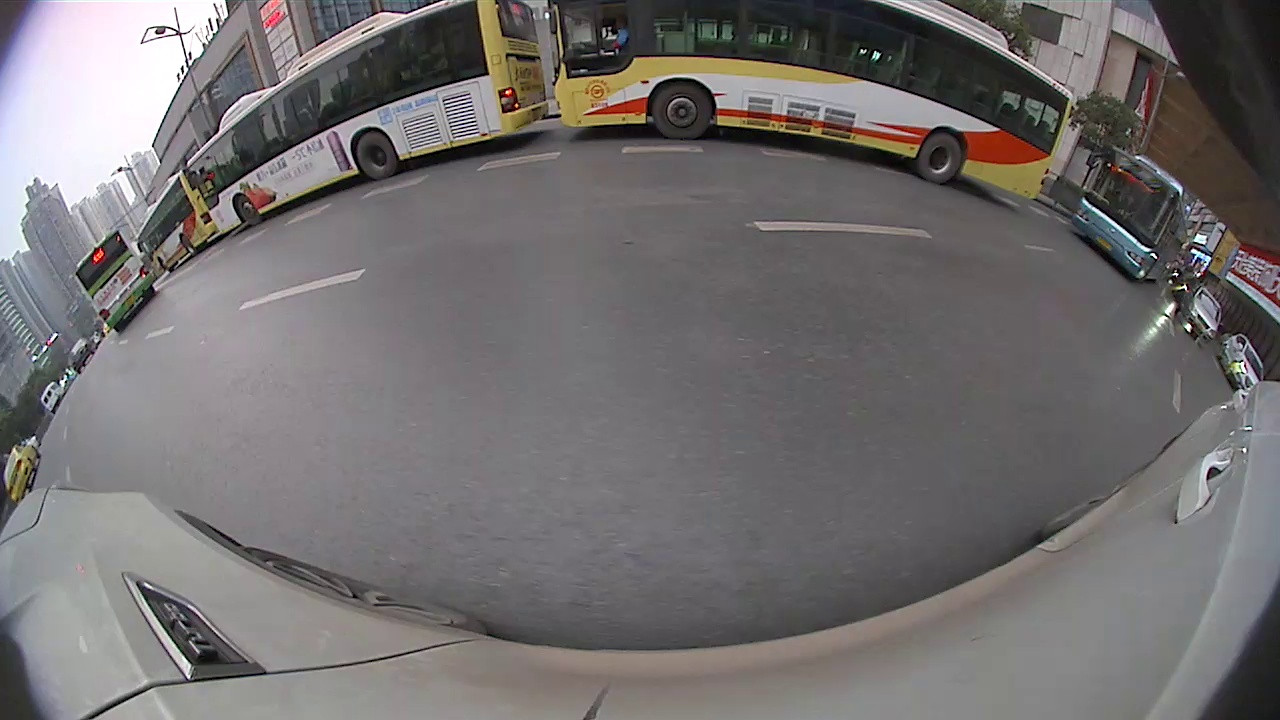bus: (546, 0, 1079, 203), (181, 1, 547, 244), (1070, 152, 1198, 289), (132, 158, 214, 280), (69, 230, 161, 336)
car: (1217, 331, 1267, 396), (1178, 287, 1229, 343)
front: (654, 84, 712, 140), (229, 196, 267, 226)
rear: (922, 129, 964, 181), (355, 134, 397, 181)
